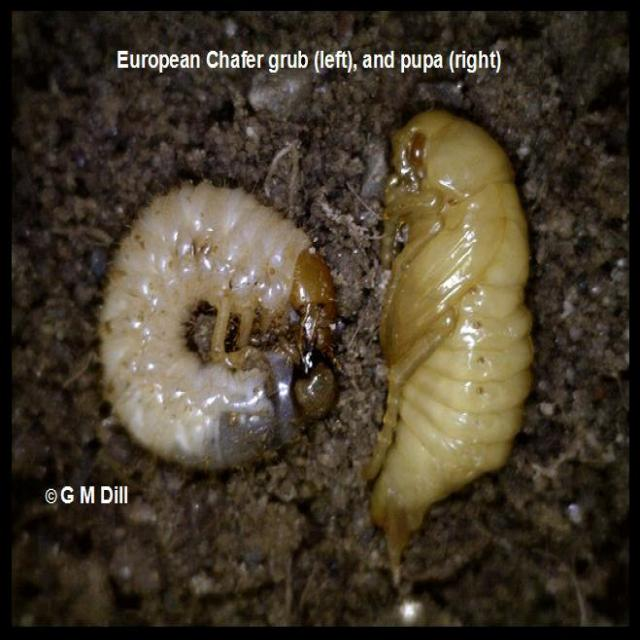Grub-Adult-: (80, 142, 371, 487), (354, 98, 554, 570)
